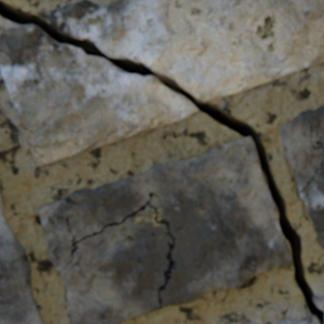brick: (38, 137, 292, 323), (279, 107, 323, 248), (0, 190, 44, 323)
broken_brick: (0, 25, 198, 166), (47, 0, 323, 101), (276, 314, 319, 323), (313, 295, 323, 310)
crack: (0, 0, 323, 323), (72, 192, 175, 307), (312, 141, 323, 150), (315, 161, 323, 172)
